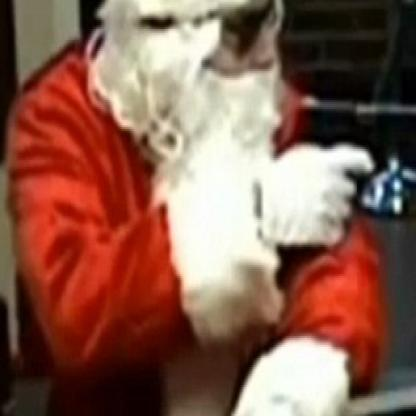gun: (282, 78, 415, 236)
